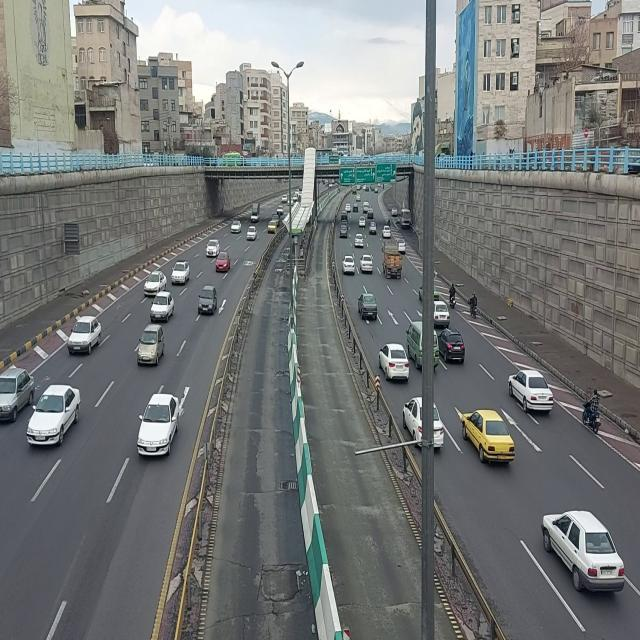Car: (541, 510, 627, 598), (26, 384, 81, 448), (461, 409, 515, 465), (136, 391, 180, 459), (507, 368, 555, 416), (402, 397, 445, 449), (0, 367, 36, 425), (67, 314, 101, 356), (378, 340, 410, 384), (137, 323, 166, 367), (439, 327, 467, 365), (150, 290, 176, 323), (357, 291, 378, 323), (197, 285, 217, 317), (144, 270, 168, 296), (171, 259, 191, 285), (435, 301, 451, 327), (342, 252, 357, 277), (216, 250, 232, 272), (359, 254, 373, 276), (206, 237, 221, 257), (246, 226, 258, 242), (354, 231, 365, 248), (231, 219, 242, 235), (339, 224, 348, 240), (381, 225, 391, 239), (267, 220, 277, 234), (369, 221, 377, 237), (367, 208, 375, 221), (359, 216, 367, 228), (392, 205, 399, 217), (281, 193, 288, 205), (277, 204, 284, 216), (353, 203, 359, 214), (346, 203, 352, 211)
Motorcycle: (581, 387, 601, 437), (469, 294, 479, 319), (449, 281, 457, 310)
Pickup: (251, 203, 261, 223)
Truck: (382, 239, 402, 282)
